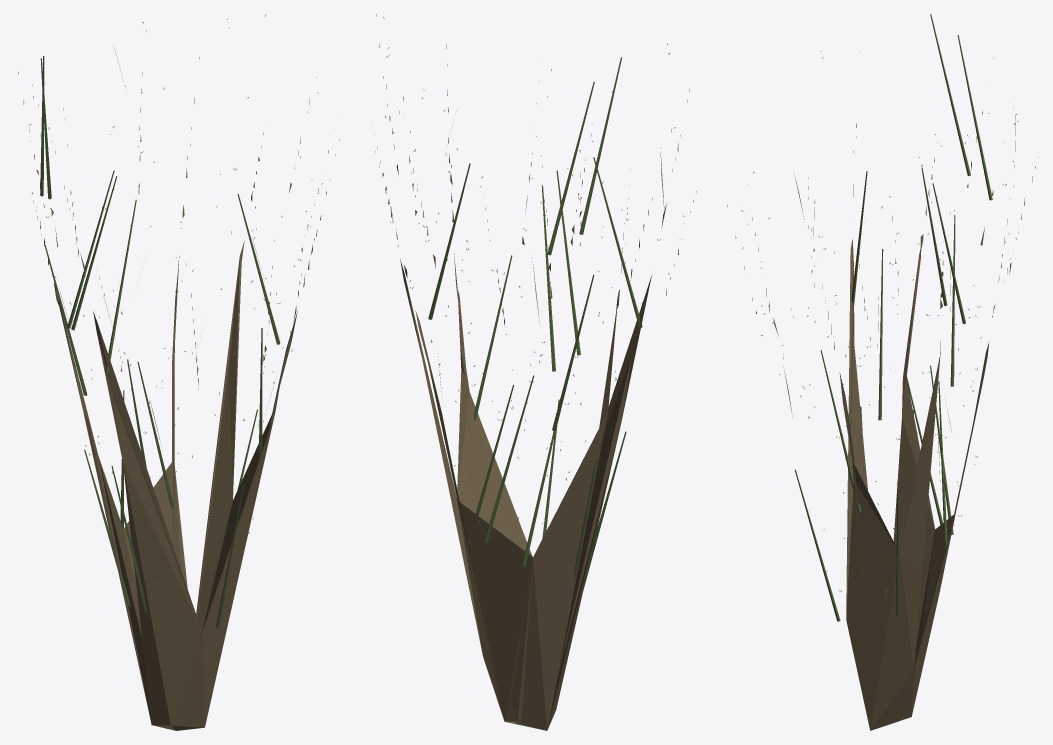
The model's file is BruyereBalais_2_Niveau2.fbx.
The picture shows the model from 3 angles, left to right: view 1: azimuth 30°, elevation 25°; view 2: azimuth 150°, elevation 25°; view 3: azimuth 270°, elevation 25°; orthographic projection. The views are drawn at different scales.
Visible parts, largest first — view 1: BruyereBalais_2_Niveau2; view 2: BruyereBalais_2_Niveau2; view 3: BruyereBalais_2_Niveau2.
Part boxes in pixels (<box>): BruyereBalais_2_Niveau2: <box>18,14,339,730</box>; BruyereBalais_2_Niveau2: <box>374,14,696,730</box>; BruyereBalais_2_Niveau2: <box>727,14,1038,730</box>.
Bounding box in the file's own units: 73.52 × 168 × 72.24.
